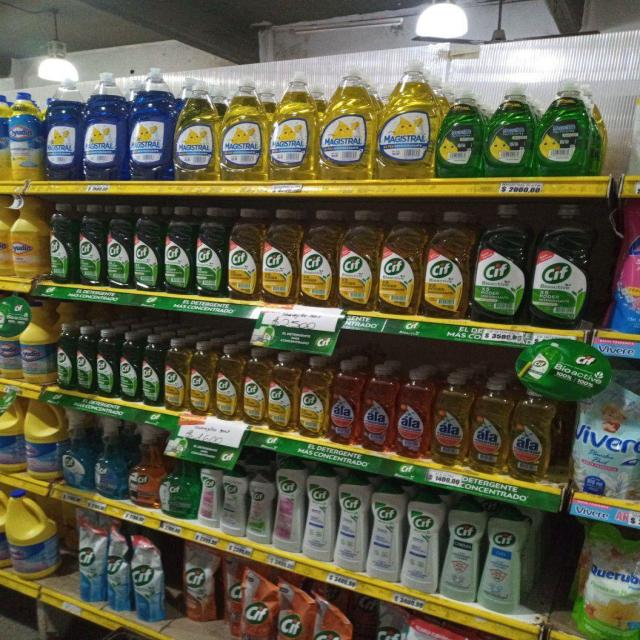ala_conc_amarillo: (510, 382, 554, 482), (471, 376, 508, 474), (432, 372, 469, 466)
ala_conc_rojo: (396, 368, 431, 459), (362, 364, 395, 452), (330, 359, 360, 445)
cif_conc_bot_amarilla: (424, 210, 469, 318), (379, 210, 422, 314), (338, 209, 378, 311), (300, 209, 337, 307), (262, 208, 298, 304), (227, 207, 260, 301), (299, 356, 329, 438), (268, 351, 298, 432), (216, 342, 242, 420), (243, 346, 267, 426), (190, 341, 214, 416), (165, 337, 188, 412)
cif_conc_botella_verde: (530, 203, 592, 328), (472, 204, 527, 324), (195, 206, 226, 297), (164, 205, 194, 295), (134, 205, 162, 292), (48, 202, 76, 284), (106, 204, 132, 289), (78, 203, 104, 287), (141, 334, 163, 407), (119, 331, 141, 402), (96, 328, 118, 398), (55, 324, 75, 391), (76, 326, 95, 395)
magistral_con_amarillo: (378, 64, 438, 180), (320, 67, 376, 181), (270, 71, 317, 181), (220, 76, 268, 182), (174, 76, 219, 182)
magistral_con_azul: (128, 67, 173, 181), (83, 71, 125, 181), (44, 71, 81, 181)
magistral_con_verde: (538, 78, 590, 177), (485, 81, 535, 175), (435, 87, 479, 180)
